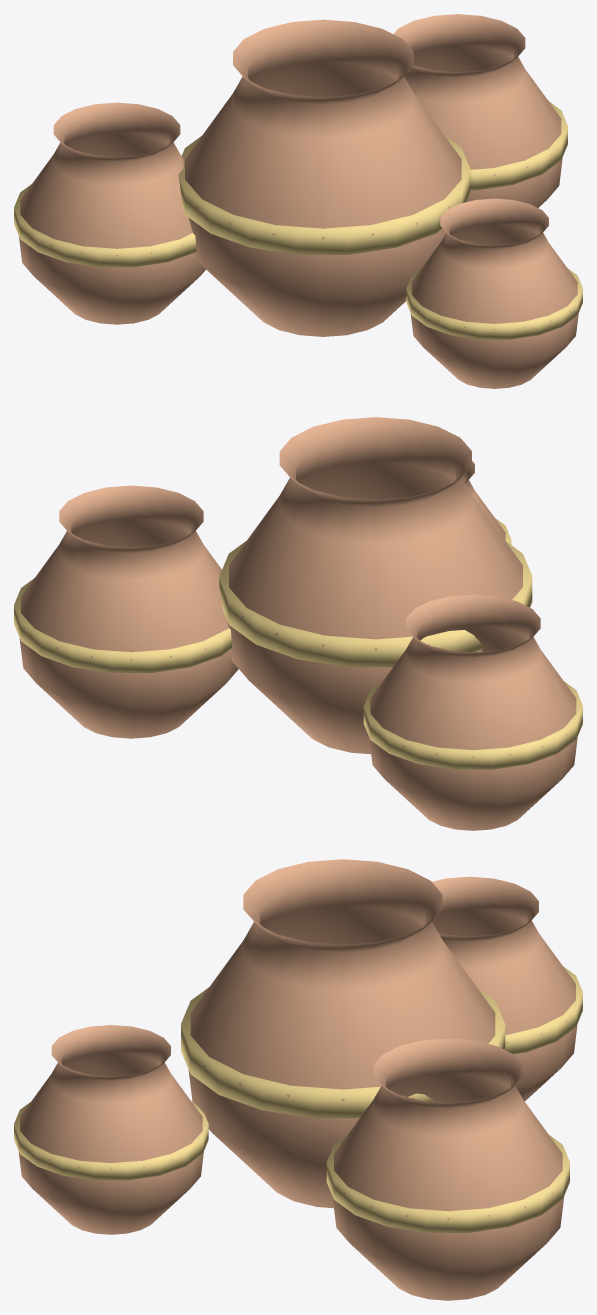
Rendered from vg_clay_pots.glb.
3 renders of one model, top to bottom at view 1: azimuth 30°, elevation 25°; view 2: azimuth 150°, elevation 25°; view 3: azimuth 270°, elevation 25°, orthographic. The views are drawn at different scales.
Visible parts, largest first — view 1: vg_clay_pots; view 2: vg_clay_pots; view 3: vg_clay_pots.
Part boxes in pixels (<box>): vg_clay_pots: <box>14,14,582,388</box>; vg_clay_pots: <box>14,417,582,830</box>; vg_clay_pots: <box>14,859,582,1300</box>.
Bounding box in the file's own units: 1.55 × 0.74 × 1.35.
